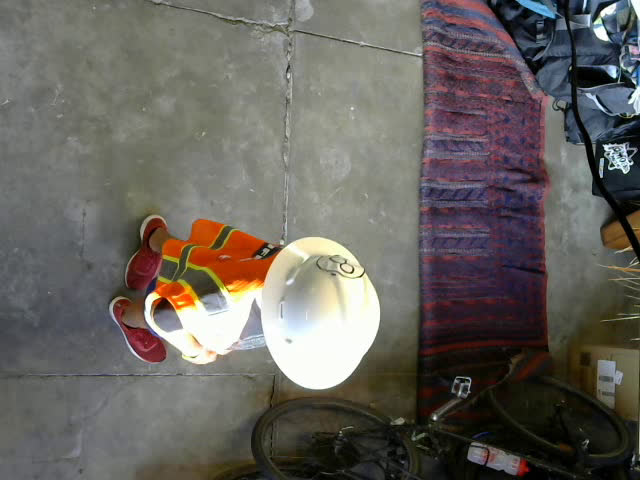eight: (317, 254, 368, 280)
